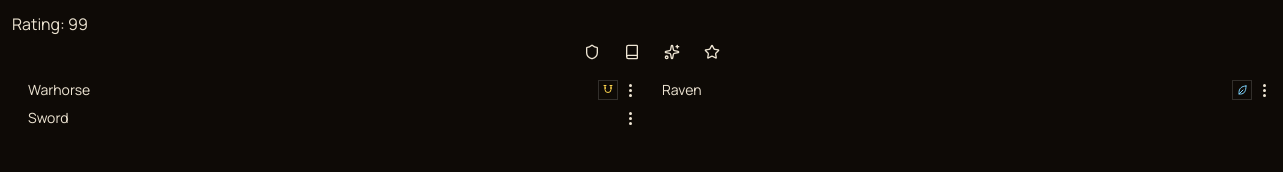
Test: item rows: the companion switch › switches a mount on in one request and writes the answer's unit and rating to the sheet
Step 1. Click the button named "Warhorse: " → (608, 90), box [598,80,618,100]
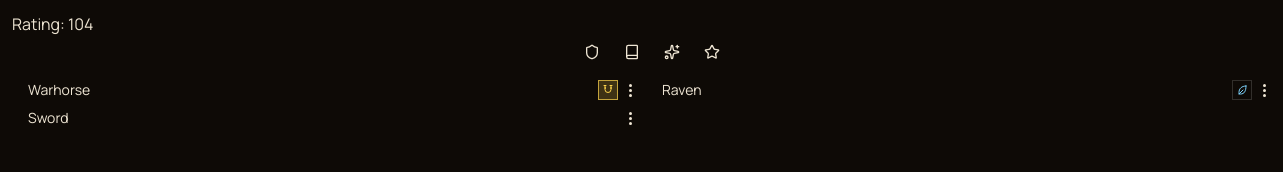
expect the text "Rating: 104" is shown: met, box [12,13,94,35]
